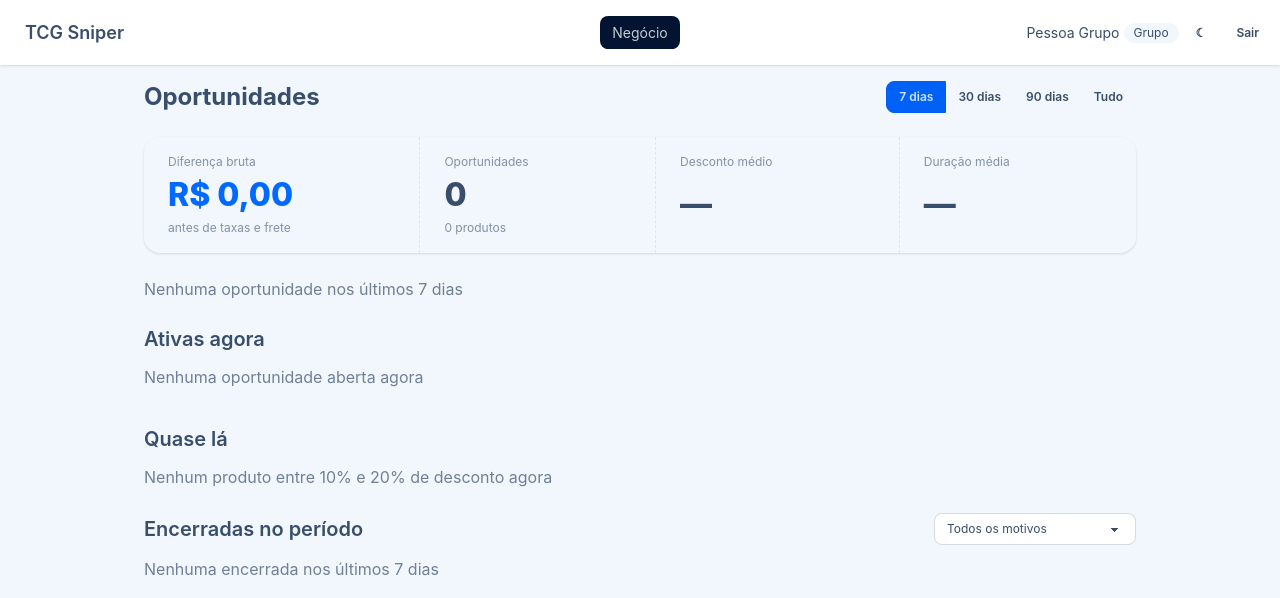
Oportunidades › período vazio: médias com traço e textos de vazio; troca de período busca de novo
The width and height of the screenshot is (1280, 598).
expect the text "Nenhuma oportunidade aberta agora" is shown: met, box [144,367,424,387]
expect the text "Nenhuma oportunidade nos últimos 7 dias" is shown: met, box [144,279,463,299]
Click the button "30 dias" at (980, 97), box [945,81,1014,113]
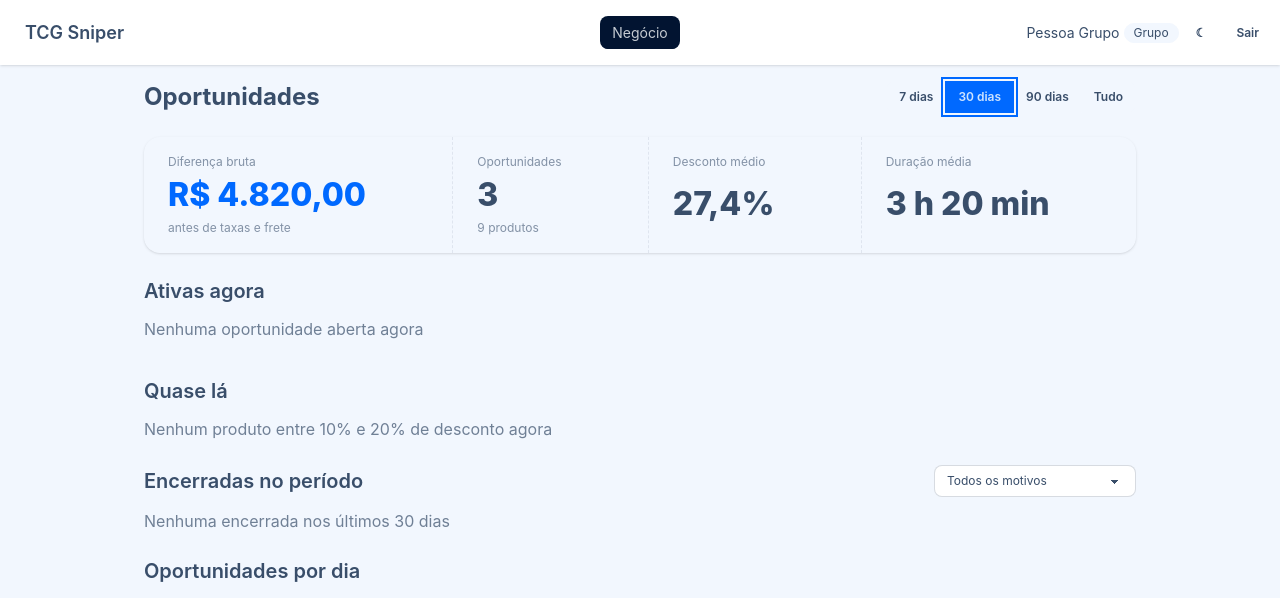
expect the text "R$ 4.820,00" is shown: met, box [168,175,366,214]
